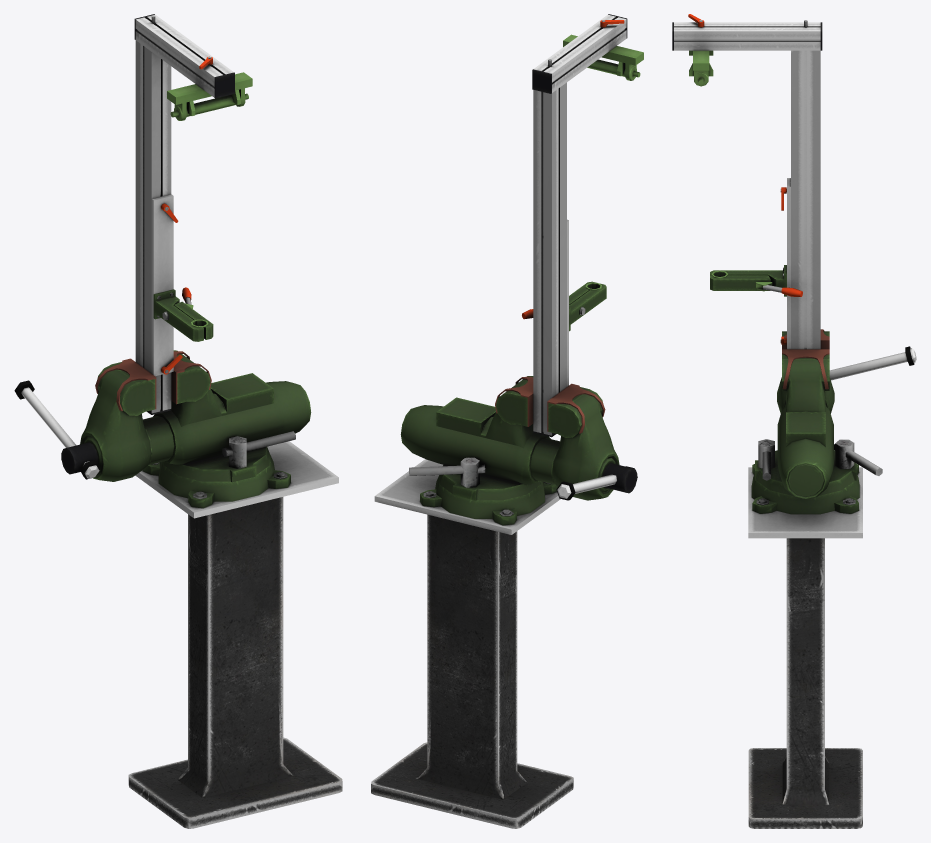
Rendered from Caballo para soldadura horquilla.FBX.
3 views of the same model, side by side, from view 1: azimuth 30°, elevation 25°; view 2: azimuth 150°, elevation 25°; view 3: azimuth 270°, elevation 25° (orthographic). The views are drawn at different scales.
Visible parts, largest first — view 1: Base_caballo_, Centro_prensa, Pieza_001, Prensa_001, Lata_superior, Placa_Base_004, agarradera_inferior, Cosa_001, Superior, Cylinder008, Cilindro_base, Detal_prensa_001 (+2 smaller); view 2: Base_caballo_, Pieza_001, Centro_prensa, Prensa_001, Lata_superior, Cosa_003, Detal_prensa_001, agarradera_inferior, Superior, Cilindro_Prensa_001, Cylinder008, Detal_prensa_002 (+2 smaller); view 3: Base_caballo_, Pieza_001, Centro_prensa, Lata_superior, Cylinder008, Cosa_003, agarradera_inferior001, Detal_prensa_002, agarradera_inferior, Placa_Base_004, Cosa_001, Superior (+1 smaller).
Part boxes in pixels (<box>): Base_caballo_: <box>128,497,342,828</box>; Centro_prensa: <box>142,350,311,508</box>; Pieza_001: <box>135,14,233,413</box>; Prensa_001: <box>80,362,174,481</box>; Lata_superior: <box>135,441,338,518</box>; Placa_Base_004: <box>151,194,173,376</box>; agarradera_inferior: <box>153,289,204,341</box>; Cosa_001: <box>222,431,295,468</box>; Superior: <box>167,72,252,115</box>; Cylinder008: <box>21,387,99,478</box>; Cilindro_base: <box>170,88,248,120</box>; Detal_prensa_001: <box>95,358,156,411</box>; Base_caballo_: <box>371,514,573,828</box>; Pieza_001: <box>533,14,626,435</box>; Centro_prensa: <box>400,376,557,525</box>; Prensa_001: <box>530,387,619,500</box>; Lata_superior: <box>374,459,560,534</box>; Cosa_003: <box>409,457,485,487</box>; Detal_prensa_001: <box>547,383,605,433</box>; agarradera_inferior: <box>569,283,606,331</box>; Superior: <box>563,34,643,76</box>; Cilindro_Prensa_001: <box>602,463,637,493</box>; Cylinder008: <box>557,474,616,498</box>; Detal_prensa_002: <box>495,376,533,426</box>; Base_caballo_: <box>748,538,862,828</box>; Pieza_001: <box>674,22,820,349</box>; Centro_prensa: <box>751,354,859,514</box>; Lata_superior: <box>748,467,862,538</box>; Cylinder008: <box>829,348,916,380</box>; Cosa_003: <box>834,439,882,475</box>; agarradera_inferior001: <box>710,274,770,290</box>; Detal_prensa_002: <box>782,349,829,389</box>; agarradera_inferior: <box>710,265,786,296</box>; Placa_Base_004: <box>787,178,790,349</box>; Cosa_001: <box>758,439,774,480</box>; Superior: <box>689,50,713,76</box>.
Size of the model in its own units: 0.6243 by 1.92 by 0.5765.
